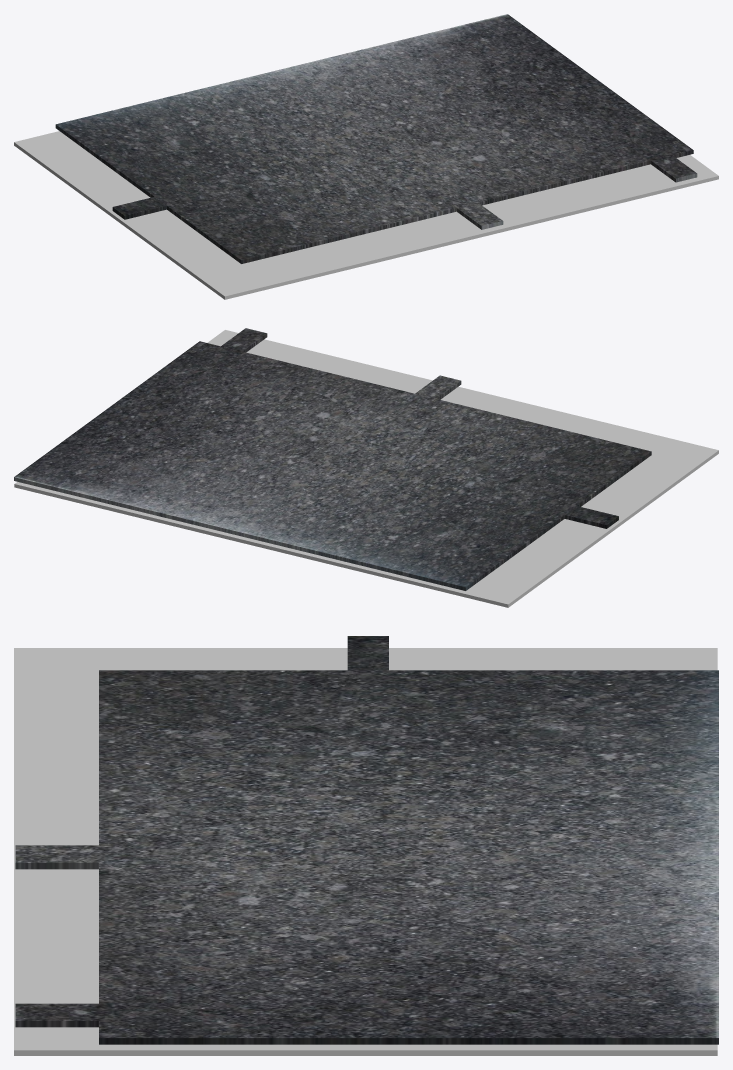
The model's file is lavaflow.obj.
3 views of the same model, one above another, from view 1: azimuth 30°, elevation 25°; view 2: azimuth 150°, elevation 25°; view 3: azimuth 270°, elevation 25° (orthographic). The views are drawn at different scales.
Visible parts, largest first — view 1: Floor, Lava; view 2: Floor, Lava; view 3: Floor, Lava.
Boxes of the visible parts, bbox=[...] form: Floor: bbox=[55, 14, 697, 263]; Lava: bbox=[14, 131, 718, 299]; Floor: bbox=[14, 328, 651, 590]; Lava: bbox=[14, 330, 718, 607]; Floor: bbox=[15, 636, 718, 1044]; Lava: bbox=[14, 648, 717, 1055].
Size of the model in its own units: 23 by 0.4722 by 17.04.
